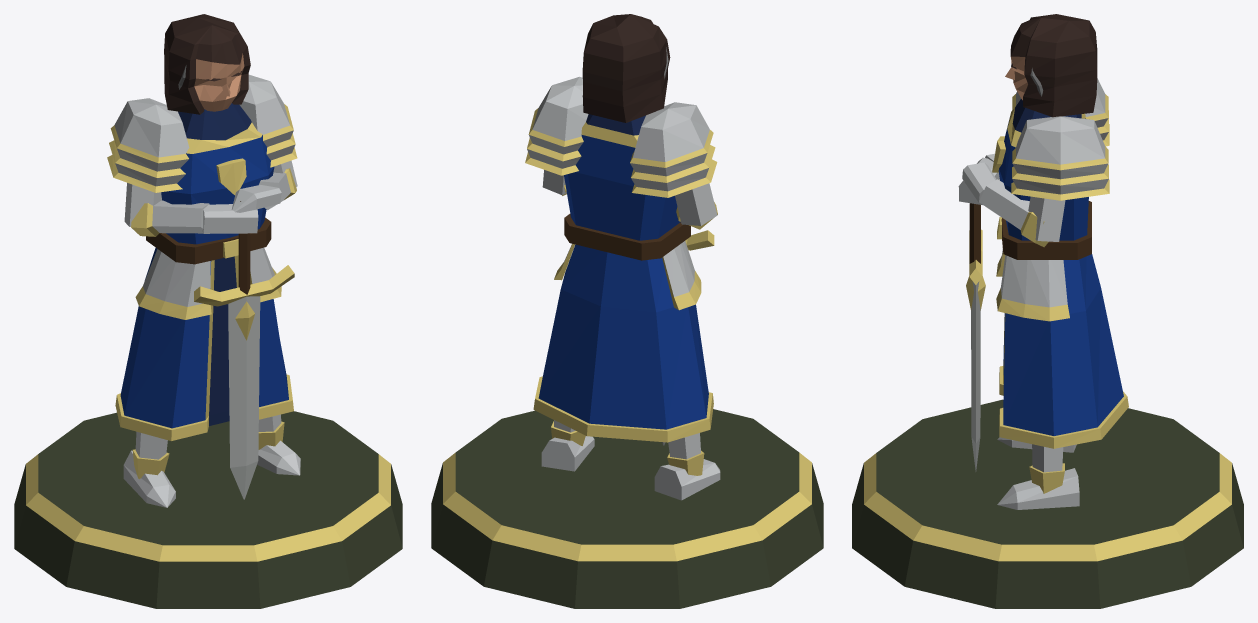
The model's file is paladin-miniature-d8fe17.glb.
3 views of the same model, side by side, from view 1: azimuth 30°, elevation 25°; view 2: azimuth 150°, elevation 25°; view 3: azimuth 270°, elevation 25° (orthographic).
Visible parts, largest first — view 1: paladin, plate, head; view 2: paladin, plate, head; view 3: paladin, plate, head.
Part boxes in pixels (left/top/right/bottom): paladin: left=14, top=103, right=402, bottom=608; plate: left=26, top=74, right=390, bottom=561; head: left=164, top=14, right=250, bottom=114; paladin: left=431, top=114, right=823, bottom=608; plate: left=443, top=76, right=811, bottom=561; head: left=582, top=14, right=670, bottom=122; paladin: left=852, top=99, right=1243, bottom=608; plate: left=864, top=78, right=1231, bottom=561; head: left=1005, top=14, right=1097, bottom=117.
Bounding box in the file's own units: 0.025 × 0.0358 × 0.025.
